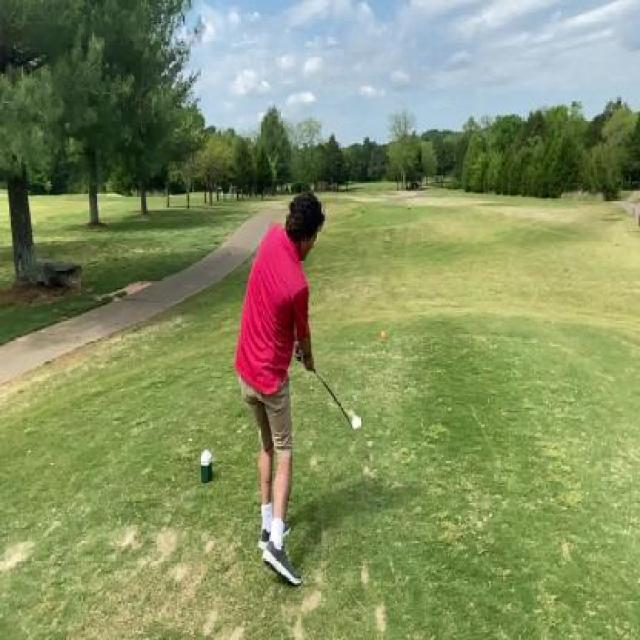club head: (347, 414, 362, 432)
